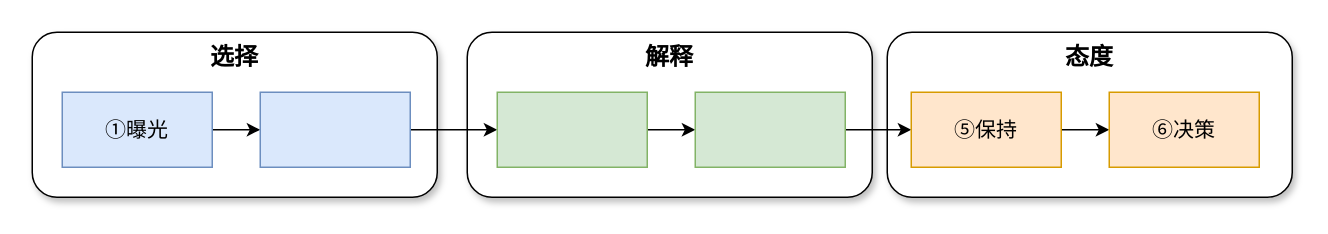
Image size: 1328x234. Some labels were removed from this diagram. The centre of each missing label's shape, as x and y in pixels:
"②关注" belongs at point (334, 129).
"③理解" belongs at point (571, 129).
"④接受" belongs at point (769, 129).
